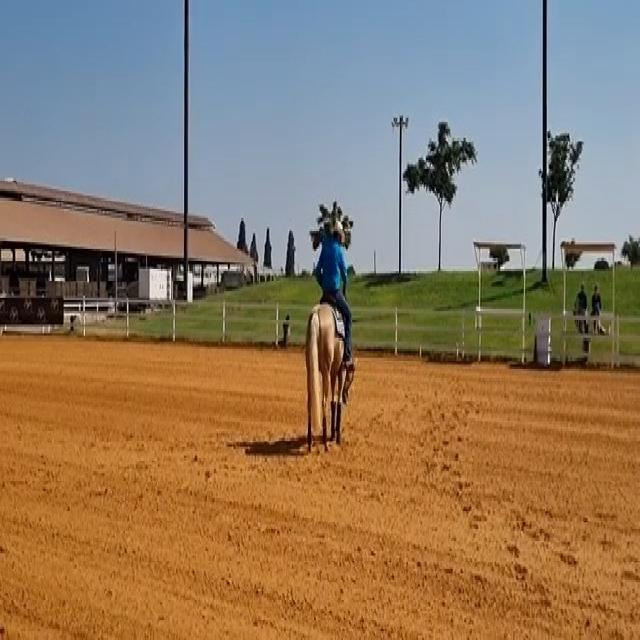horse: (303, 296, 354, 454)
